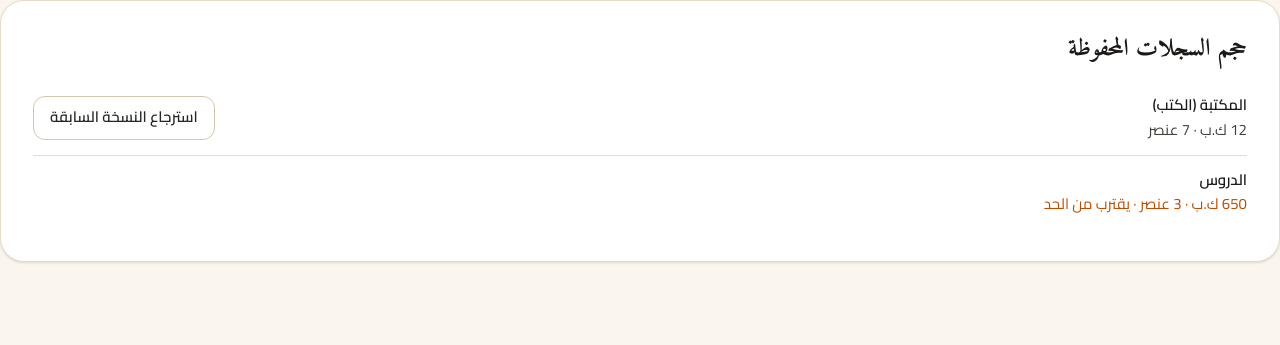
Test: RecordSizes › shows the message when the restore fails
The width and height of the screenshot is (1280, 345).
Click the button "استرجاع النسخة السابقة" at [124, 118], box [33, 96, 215, 140]
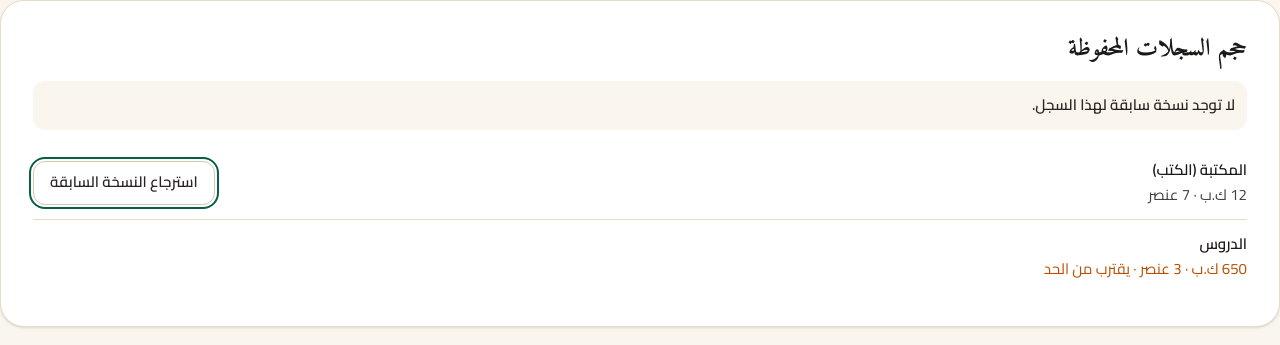
Check: the message shows "لا توجد نسخة سابقة", box [1032, 90, 1235, 119]
